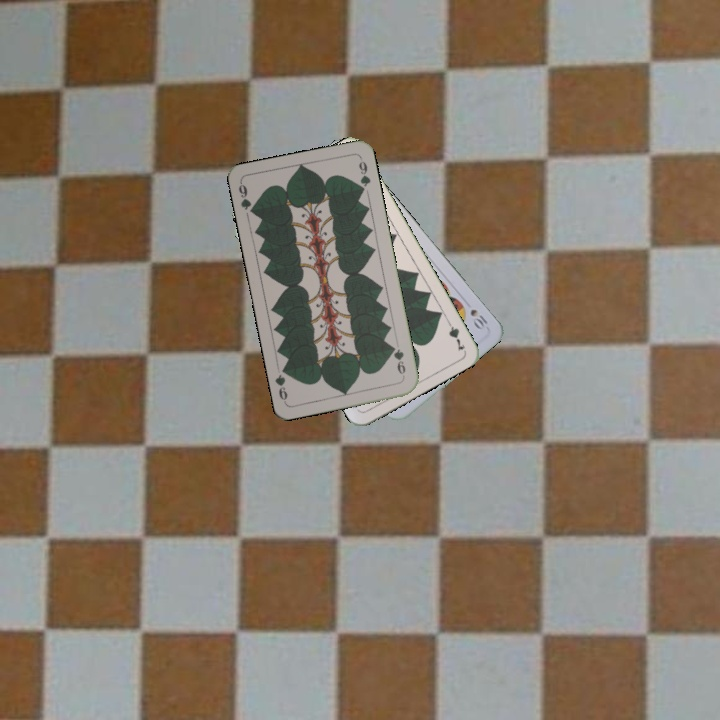G7: (442, 314, 467, 354)
G9: (234, 179, 258, 218), (388, 342, 408, 380)
S10: (466, 305, 491, 331)
